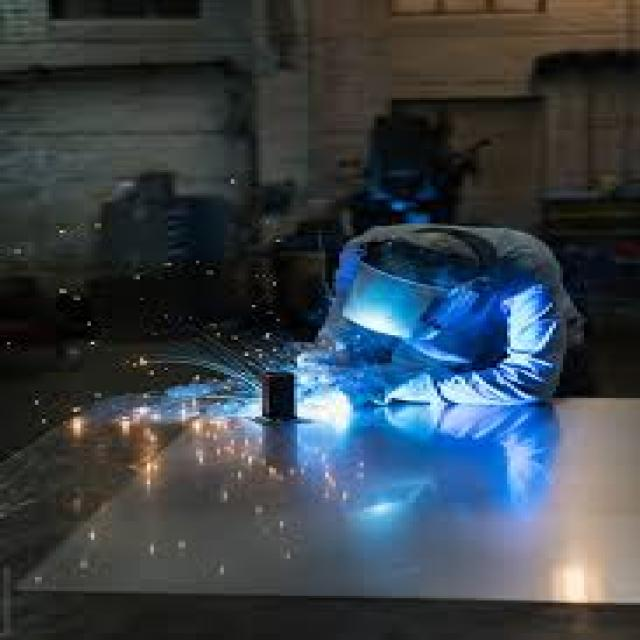welding: (304, 391, 360, 425)
